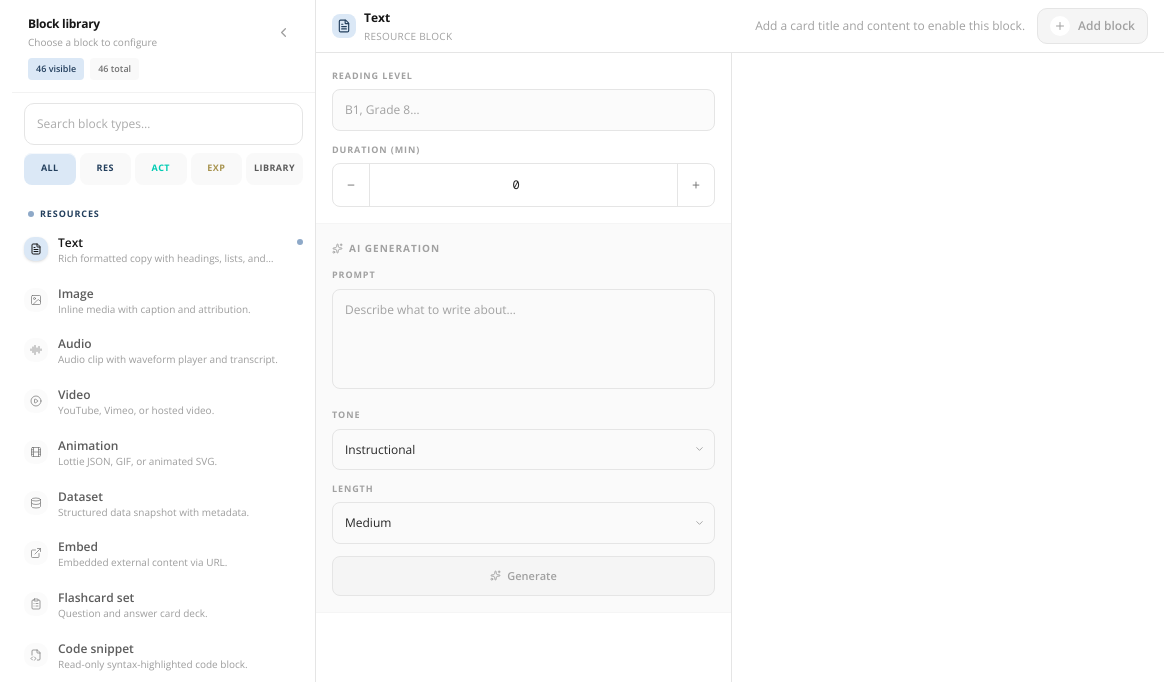
Test case: MakePanel integration › shows saved blocks grouped by project with counts and collapsible sections
What coordinates should you click on to do the following:
click the button "Library"
I would click on:
 (274, 169)
Its box is top-left (246, 153), bottom-right (303, 185).
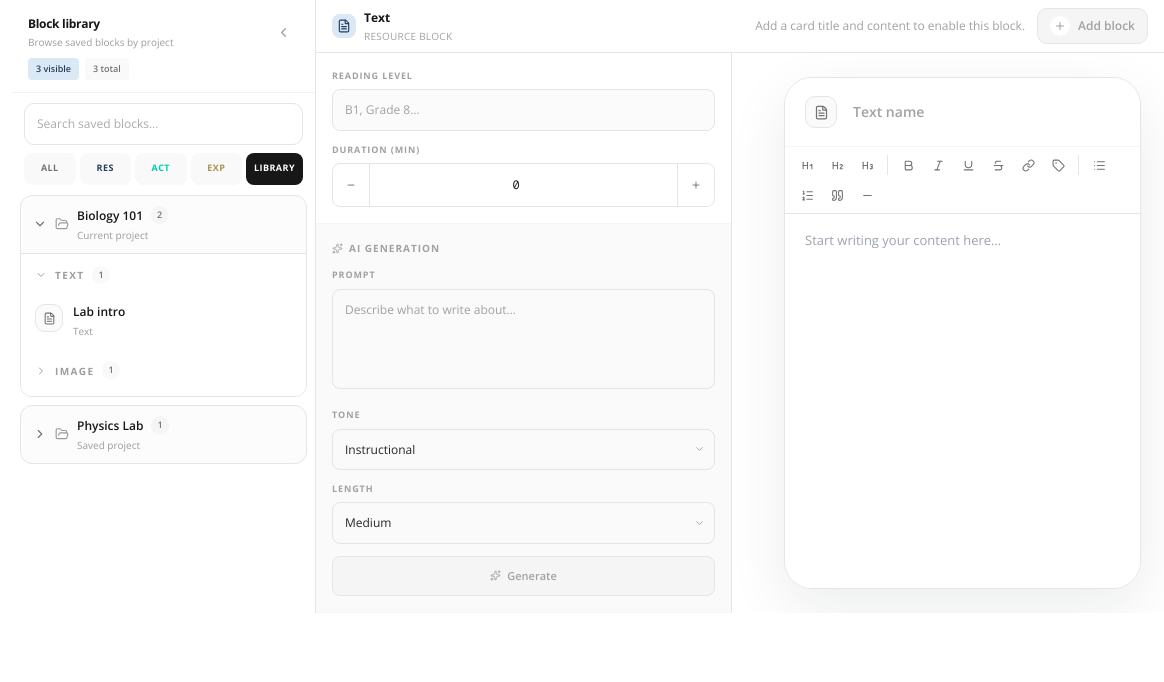
Expected: the text "2" is shown, top-left (151, 206), bottom-right (168, 224)
Result: the text "Lab intro" is shown at top-left (73, 303), bottom-right (125, 320)
What coordinates should you click on to do the following:
click the button "Text 1"
I would click on:
 (41, 275)
Its box is top-left (27, 260), bottom-right (300, 290).
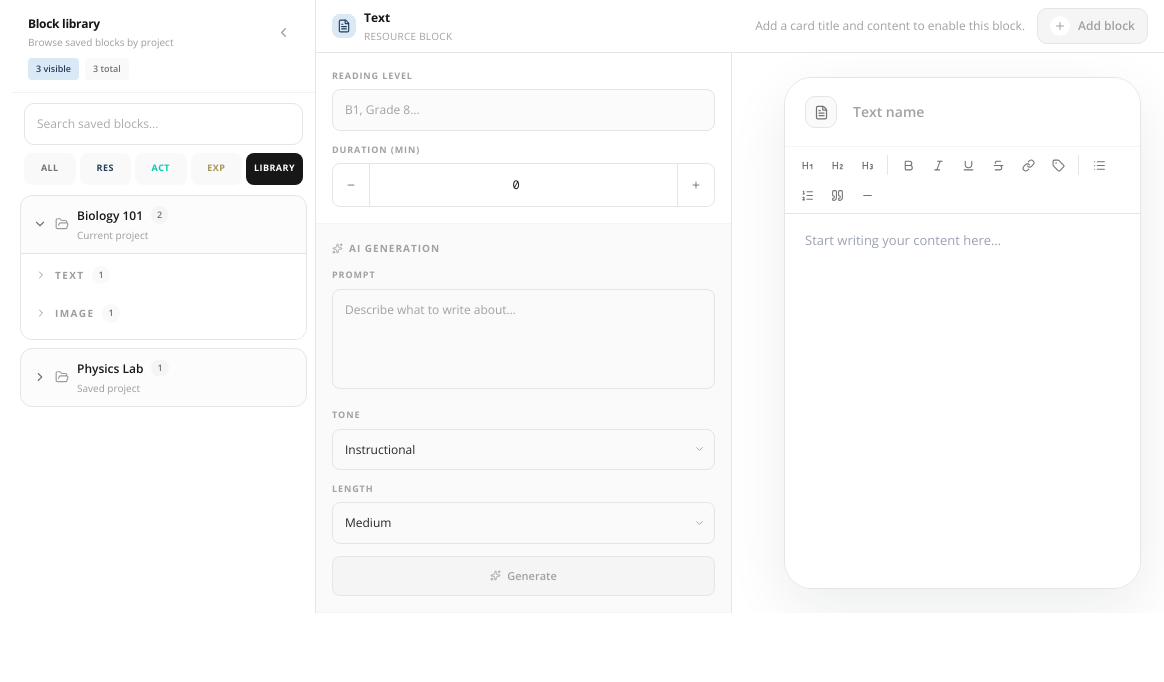
Result: the button "Lab intro" is gone
What coordinates should you click on to do the following:
click the button "Text 1"
I would click on:
 (41, 275)
Its box is top-left (27, 260), bottom-right (300, 290).
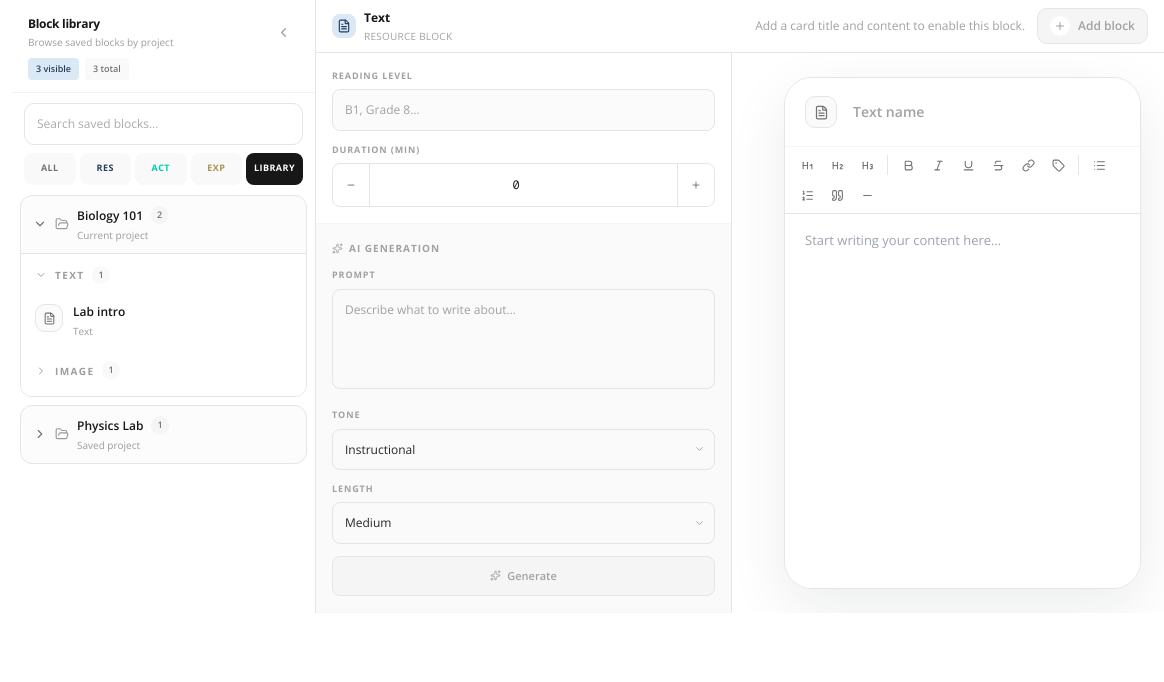
Result: the text "Lab intro" is shown at top-left (73, 303), bottom-right (125, 320)
What coordinates should you click on to do the following:
click the button "Physics Lab 1 Saved project"
I would click on:
 (164, 434)
Its box is top-left (21, 406), bottom-right (306, 463).
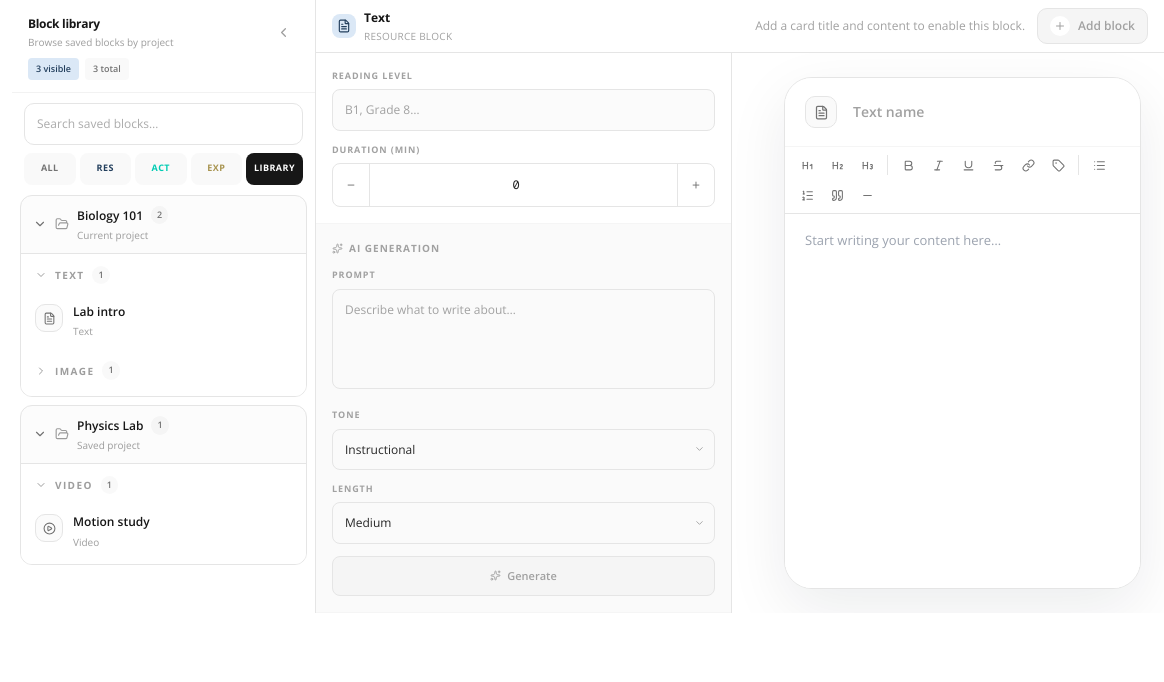
Result: the text "Motion study" is shown at top-left (73, 513), bottom-right (150, 530)
